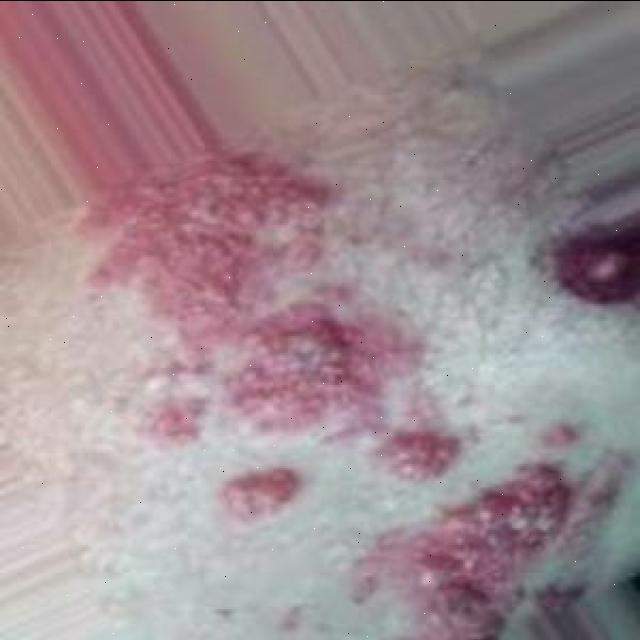Shingles: (74, 153, 460, 477), (352, 463, 573, 640), (216, 466, 300, 518)
